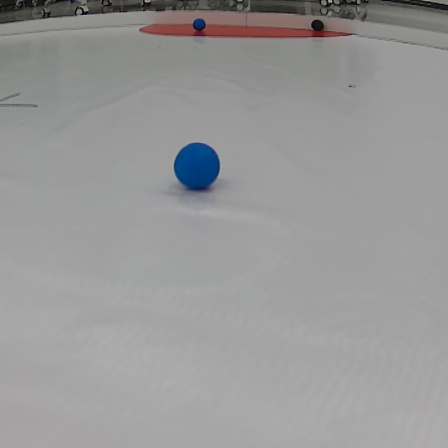black: (311, 18, 323, 31)
blue: (176, 140, 217, 190), (192, 17, 206, 30)
red_base: (139, 23, 359, 40)
